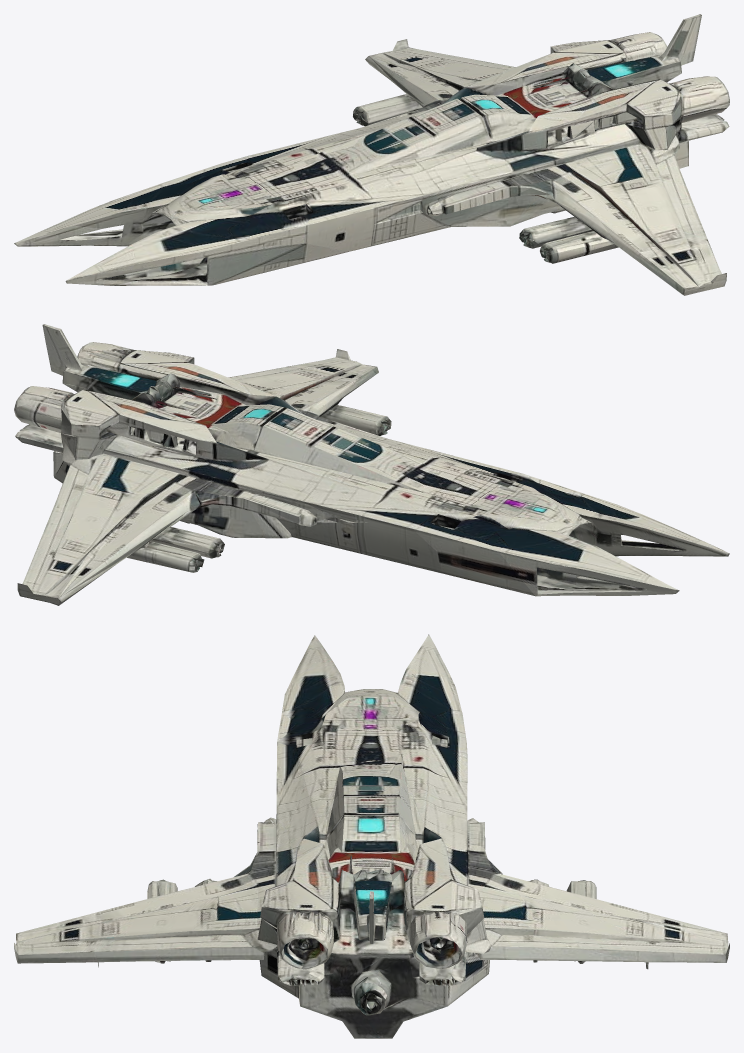
The model's file is nation-a-cruiser.glb.
3 renders of one model, top to bottom at view 1: azimuth 30°, elevation 25°; view 2: azimuth 150°, elevation 25°; view 3: azimuth 270°, elevation 25°, orthographic. The views are drawn at different scales.
Size of the model in its own units: 1.89 by 0.4148 by 1.58.
1 material, 1 textured.
